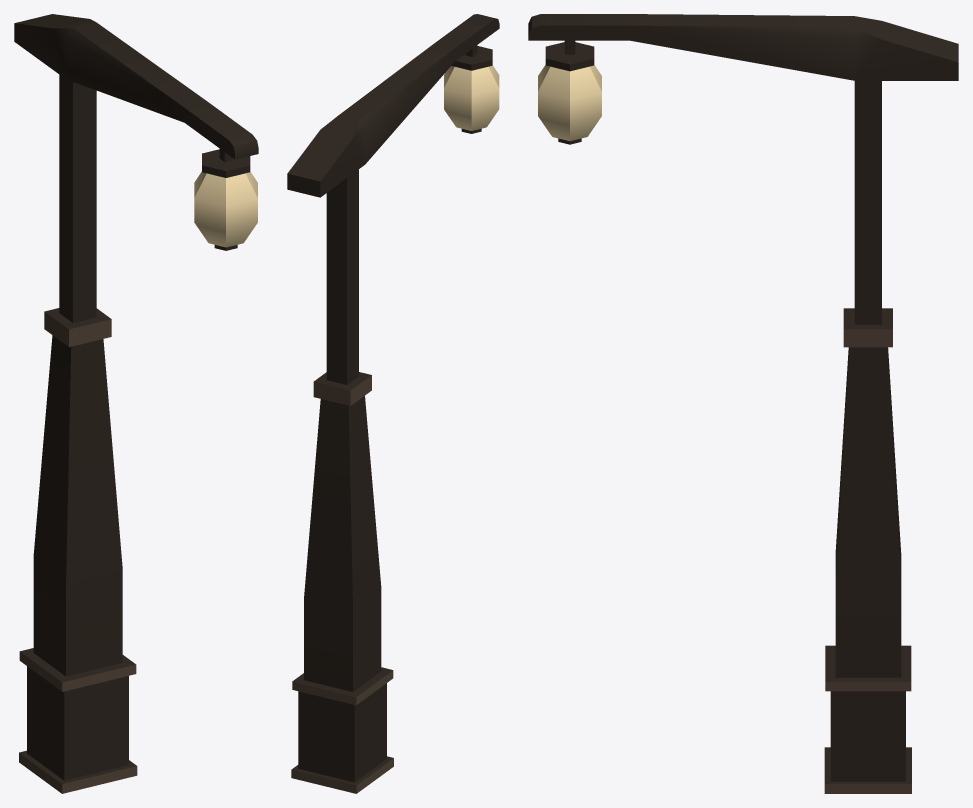
File: StreetLamp_0.FBX
3 views of the same model, side by side, from view 1: azimuth 30°, elevation 25°; view 2: azimuth 150°, elevation 25°; view 3: azimuth 270°, elevation 25° (orthographic). The views are drawn at different scales.
Parts seen in each view (by area): view 1: Box003; view 2: Box003; view 3: Box003.
Boxes of the visible parts, box(x1,y1,x2,y2) form: Box003: box(14, 14, 258, 793); Box003: box(287, 14, 499, 793); Box003: box(528, 14, 958, 793).
Size of the model in its own units: 42.68 by 408 by 210.
